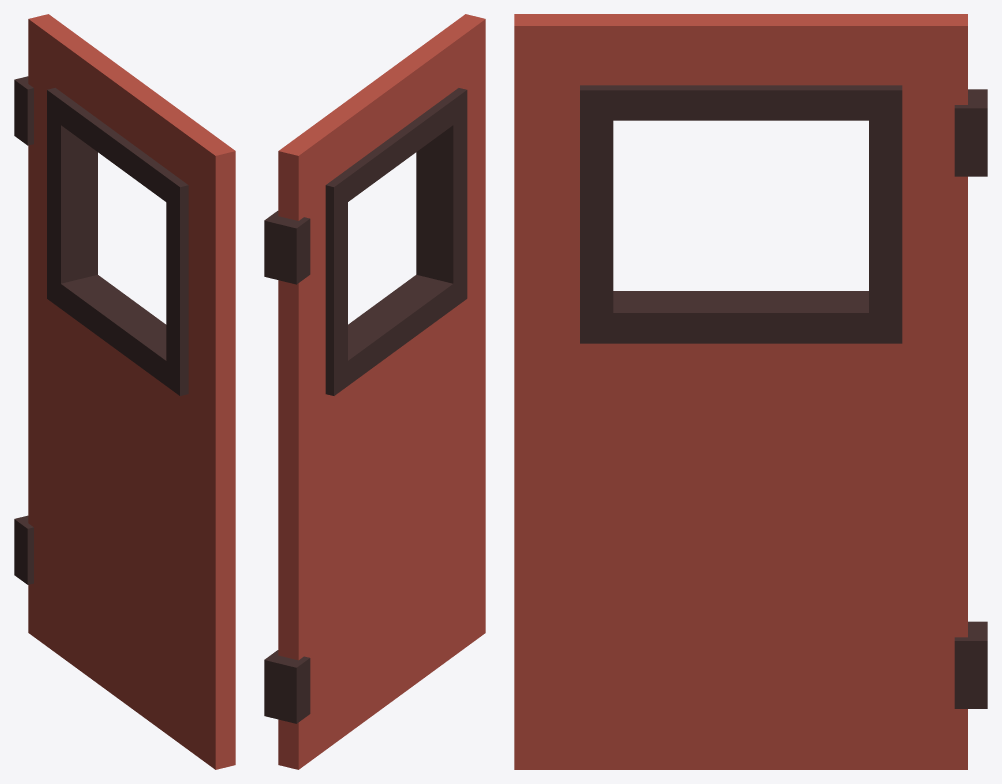
Rendered from Door.fbx.
The picture shows the model from 3 angles, left to right: view 1: azimuth 30°, elevation 25°; view 2: azimuth 150°, elevation 25°; view 3: azimuth 270°, elevation 25°; orthographic projection. The views are drawn at different scales.
Parts seen in each view (by area): view 1: Door; view 2: Door; view 3: Door.
Part boxes in pixels (x1,y1,x2,y2): Door: (14,14,235,769); Door: (264,14,485,769); Door: (514,14,987,769).
Size of the model in its own units: 0.1312 by 2.07 by 1.2.
